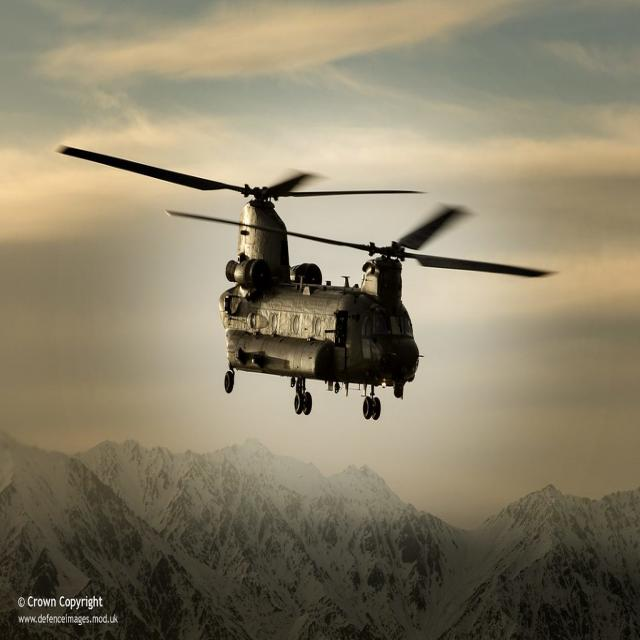helicopter: (55, 145, 561, 423)
